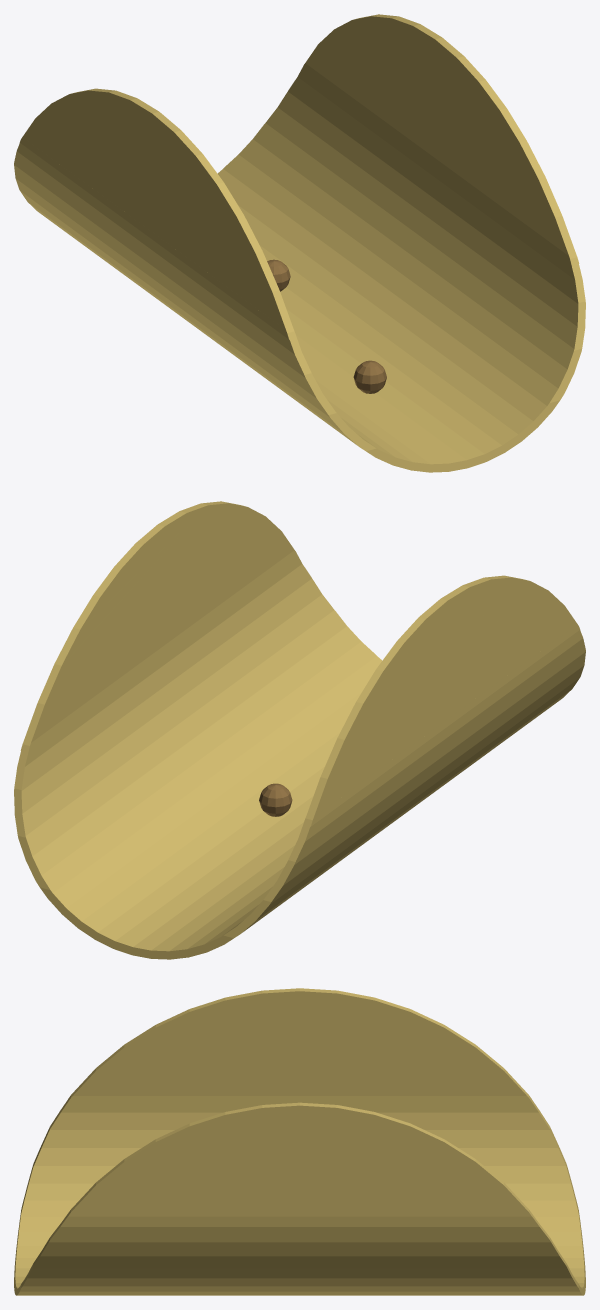
Rendered from Santiago - Taco.glb.
The picture shows the model from 3 angles, top to bottom: view 1: azimuth 30°, elevation 25°; view 2: azimuth 150°, elevation 25°; view 3: azimuth 270°, elevation 25°; orthographic projection. The views are drawn at different scales.
Parts seen in each view (by area): view 1: Mesh_Mesh_head_geo.001_lambert2SG.001; view 2: Mesh_Mesh_head_geo.001_lambert2SG.001; view 3: Mesh_Mesh_head_geo.001_lambert2SG.001.
Boxes of the visible parts, bbox=[...] form: Mesh_Mesh_head_geo.001_lambert2SG.001: bbox=[14, 14, 585, 472]; Mesh_Mesh_head_geo.001_lambert2SG.001: bbox=[14, 501, 585, 959]; Mesh_Mesh_head_geo.001_lambert2SG.001: bbox=[14, 988, 585, 1295].
Bounding box in the file's own units: 0.0403 × 0.0362 × 0.0793.
